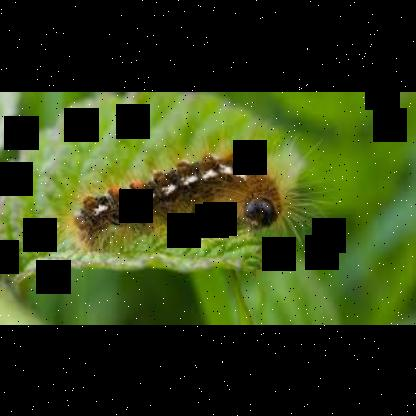oruga: (70, 147, 286, 247)
